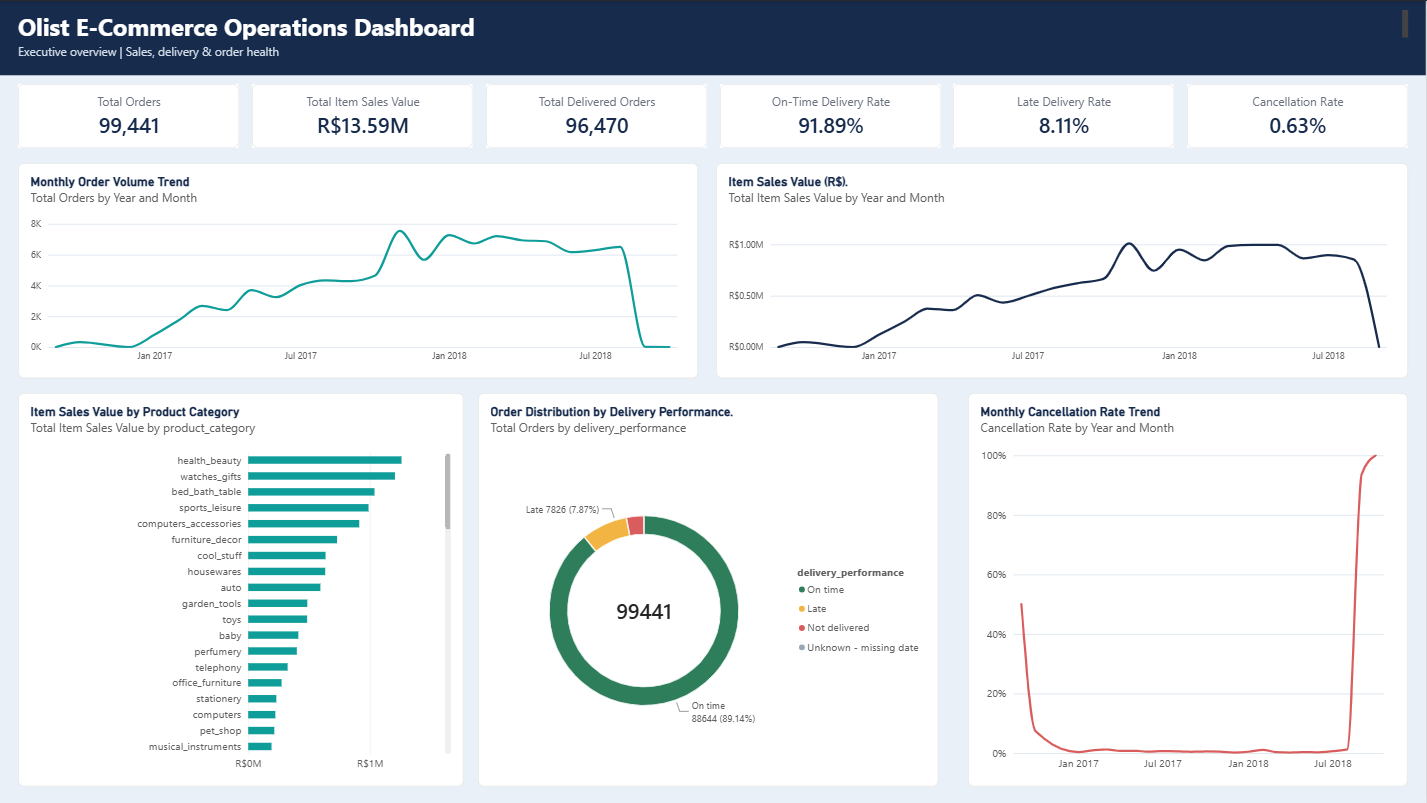

The dashboard page shown, as its layout file describes it:
{"tool":"powerbi","page":{"name":"Executive Overview","canvas":[1920,1080],"ordinal":0},"visuals":[{"type":"shape","box":[0,0,1920,100],"z":0},{"type":"cardVisual","fields":{"Data":["ecommerce_analytics vw_order_level_analytics.Total Orders Display"]},"box":[24,112,297,86],"z":1000},{"type":"cardVisual","fields":{"Data":["ecommerce_analytics vw_order_level_analytics.Late Delivery Rate"]},"box":[1284,112,297,86],"z":2000},{"type":"cardVisual","fields":{"Data":["ecommerce_analytics vw_order_level_analytics.On-Time Delivery Rate"]},"box":[969,112,297,86],"z":3000},{"type":"cardVisual","fields":{"Data":["ecommerce_analytics vw_order_level_analytics.Total Delivered Orders Display"]},"box":[654,112,297,86],"z":4000},{"type":"lineChart","title":"Monthly Order Volume Trend","fields":{"Category":["ecommerce_analytics vw_order_level_analytics.purchase_month.Variation.Date Hierarchy.Year","ecommerce_analytics vw_order_level_analytics.purchase_month.Variation.Date Hierarchy.Month"],"Y":["ecommerce_analytics vw_order_level_analytics.Total Orders"]},"box":[24,218,916.2,290],"z":5000},{"type":"lineChart","title":"Item Sales Value (R$).","fields":{"Category":["ecommerce_analytics vw_order_item_analytics.purchase_month.Variation.Date Hierarchy.Year","ecommerce_analytics vw_order_item_analytics.purchase_month.Variation.Date Hierarchy.Month"],"Y":["ecommerce_analytics vw_order_item_analytics.Total Item Sales Value"]},"box":[964,218,932,290],"z":6000},{"type":"clusteredBarChart","title":"Item Sales Value by Product Category","fields":{"Category":["ecommerce_analytics vw_order_item_analytics.product_category"],"Y":["ecommerce_analytics vw_order_item_analytics.Total Item Sales Value"]},"box":[24,528,600,530],"z":7000},{"type":"cardVisual","title":"Cancellation Rate","fields":{"Data":["ecommerce_analytics vw_order_level_analytics.Cancellation Rate"]},"box":[1599,112,297,86],"z":8000},{"type":"lineChart","title":"Monthly Cancellation Rate Trend","fields":{"Category":["ecommerce_analytics vw_order_level_analytics.purchase_month.Variation.Date Hierarchy.Year","ecommerce_analytics vw_order_level_analytics.purchase_month.Variation.Date Hierarchy.Month"],"Y":["ecommerce_analytics vw_order_level_analytics.Cancellation Rate"]},"box":[1304,528,592,530],"z":9000},{"type":"donutChart","title":"Order Distribution by Delivery Performance.","fields":{"Category":["ecommerce_analytics vw_order_level_analytics.delivery_performance"],"Y":["ecommerce_analytics vw_order_level_analytics.Total Orders"]},"box":[644,528,620,530],"z":10000},{"type":"textbox","box":[24,12,1872,40],"z":11000},{"type":"textbox","box":[24,57,1200,28],"z":12000},{"type":"cardVisual","fields":{"Data":["ecommerce_analytics vw_order_item_analytics.Total Item Sales Value"]},"box":[339,112,297,86],"z":13000}]}

Visuals, with their boxes in screenshot pixels (x1, y1, x2, y2), scaled from the page's 1920x1080 canvas onto the 1427x803 screenshot:
shape: [0, 0, 1426, 74]
cardVisual - ecommerce_analytics vw_order_level_analytics.Total Orders Display: [18, 83, 239, 147]
cardVisual - ecommerce_analytics vw_order_level_analytics.Late Delivery Rate: [954, 83, 1175, 147]
cardVisual - ecommerce_analytics vw_order_level_analytics.On-Time Delivery Rate: [720, 83, 941, 147]
cardVisual - ecommerce_analytics vw_order_level_analytics.Total Delivered Orders Display: [486, 83, 707, 147]
"Monthly Order Volume Trend" lineChart: [18, 162, 699, 378]
"Item Sales Value (R$)." lineChart: [716, 162, 1409, 378]
"Item Sales Value by Product Category" clusteredBarChart: [18, 393, 464, 787]
"Cancellation Rate" cardVisual: [1188, 83, 1409, 147]
"Monthly Cancellation Rate Trend" lineChart: [969, 393, 1409, 787]
"Order Distribution by Delivery Performance." donutChart: [479, 393, 939, 787]
textbox: [18, 9, 1409, 39]
textbox: [18, 42, 910, 63]
cardVisual - ecommerce_analytics vw_order_item_analytics.Total Item Sales Value: [252, 83, 473, 147]
